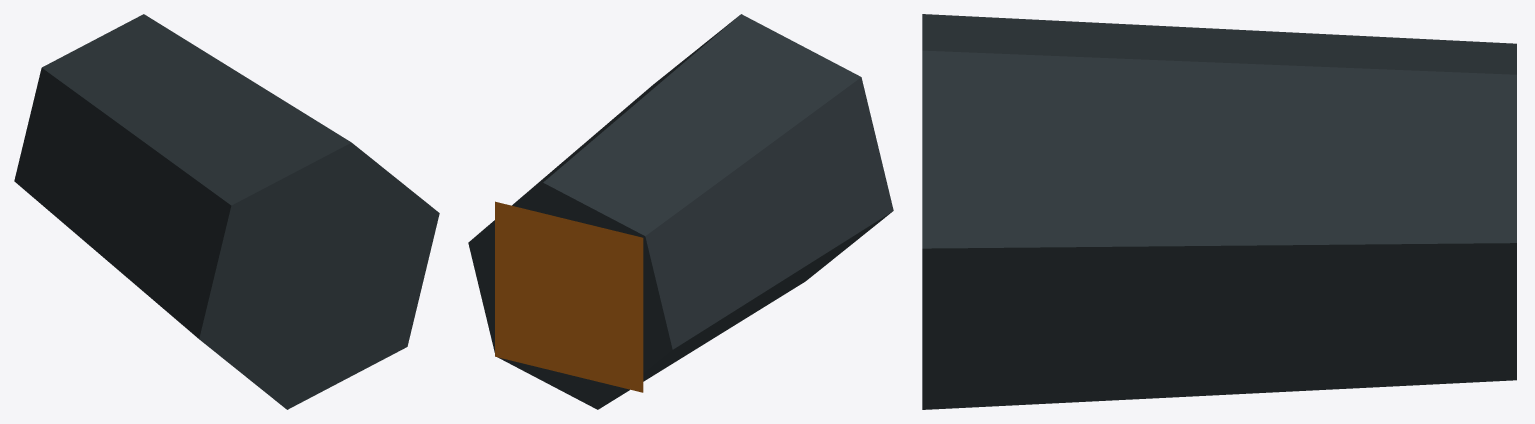
3 views of the same model, side by side, from view 1: azimuth 30°, elevation 25°; view 2: azimuth 150°, elevation 25°; view 3: azimuth 270°, elevation 25° (orthographic). The views are drawn at different scales.
Parts seen in each view (by area): view 1: mount; view 2: mount; view 3: mount.
Boxes of the visible parts, x1,y1,x2,y2 form: mount: (14,14,439,409); mount: (468,14,893,409); mount: (922,14,1516,409).
Size of the model in its own units: 3.28 by 3.28 by 4.83.
